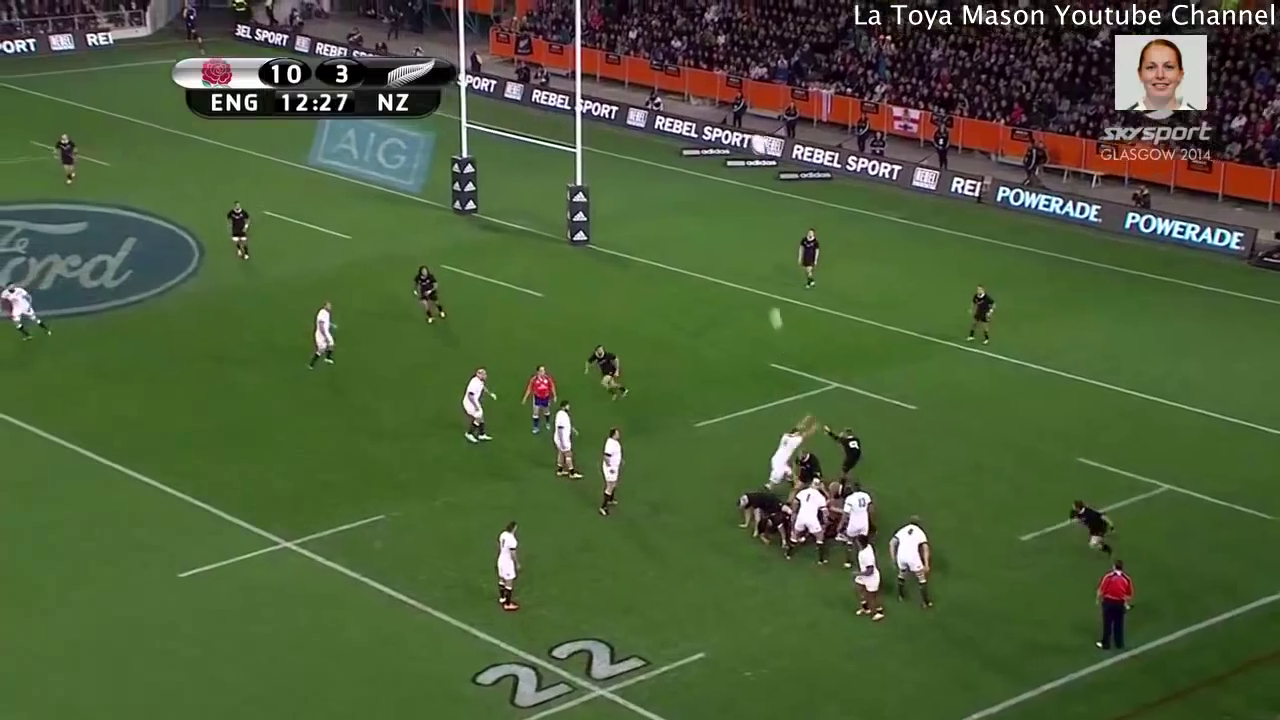ball: (763, 304, 790, 339)
player: (483, 514, 542, 623), (885, 503, 939, 614), (1083, 556, 1135, 668), (447, 354, 505, 451), (574, 332, 637, 414), (585, 419, 632, 528), (758, 411, 818, 493), (1053, 500, 1131, 563), (842, 531, 892, 624), (787, 473, 832, 568), (397, 260, 453, 336), (513, 353, 559, 442), (543, 392, 586, 485), (1, 276, 54, 349), (301, 294, 343, 379), (837, 485, 877, 570), (789, 221, 827, 300), (958, 282, 999, 354), (221, 194, 261, 266), (821, 419, 864, 480), (47, 129, 84, 195), (751, 508, 803, 554), (730, 491, 781, 526)
post: (445, 1, 596, 259)
ruck: (722, 465, 882, 568)
